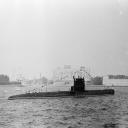submarine: (9, 78, 117, 101)
